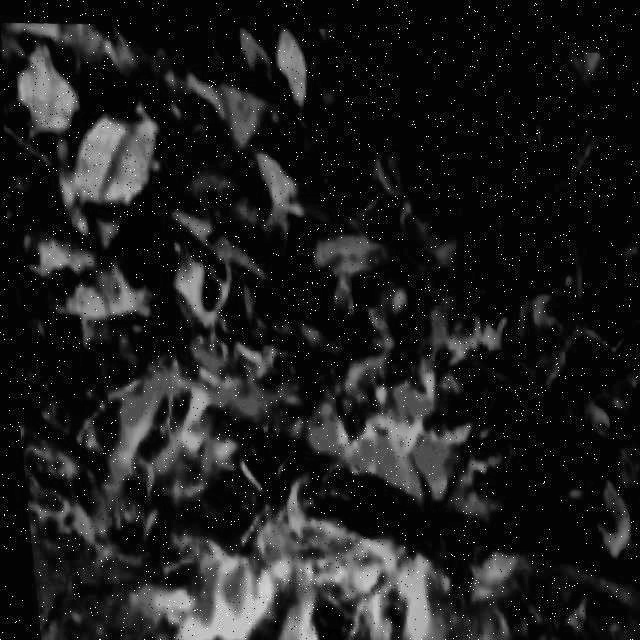Fire: (70, 338, 495, 640)
